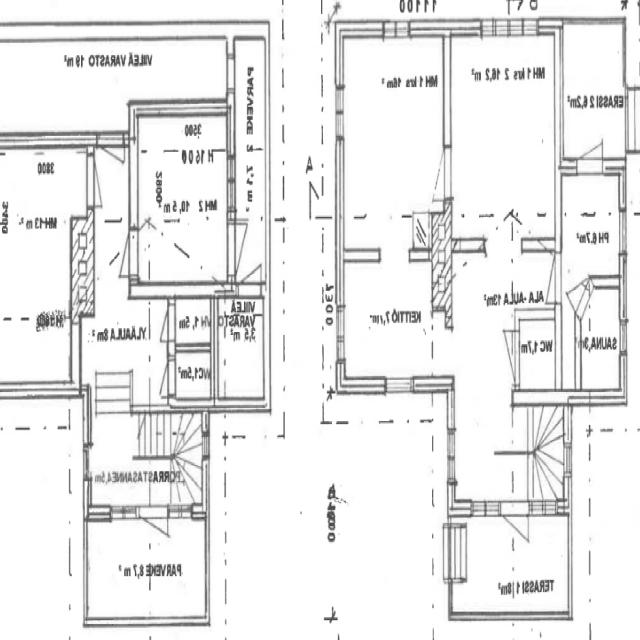door: (139, 506, 168, 578), (417, 146, 453, 200), (97, 131, 125, 200), (485, 330, 520, 385), (560, 262, 592, 322), (86, 155, 121, 207), (503, 499, 529, 566), (227, 223, 261, 274), (104, 226, 138, 276), (577, 109, 603, 174), (529, 253, 562, 304), (238, 236, 261, 296), (149, 359, 175, 395), (149, 304, 175, 340)
